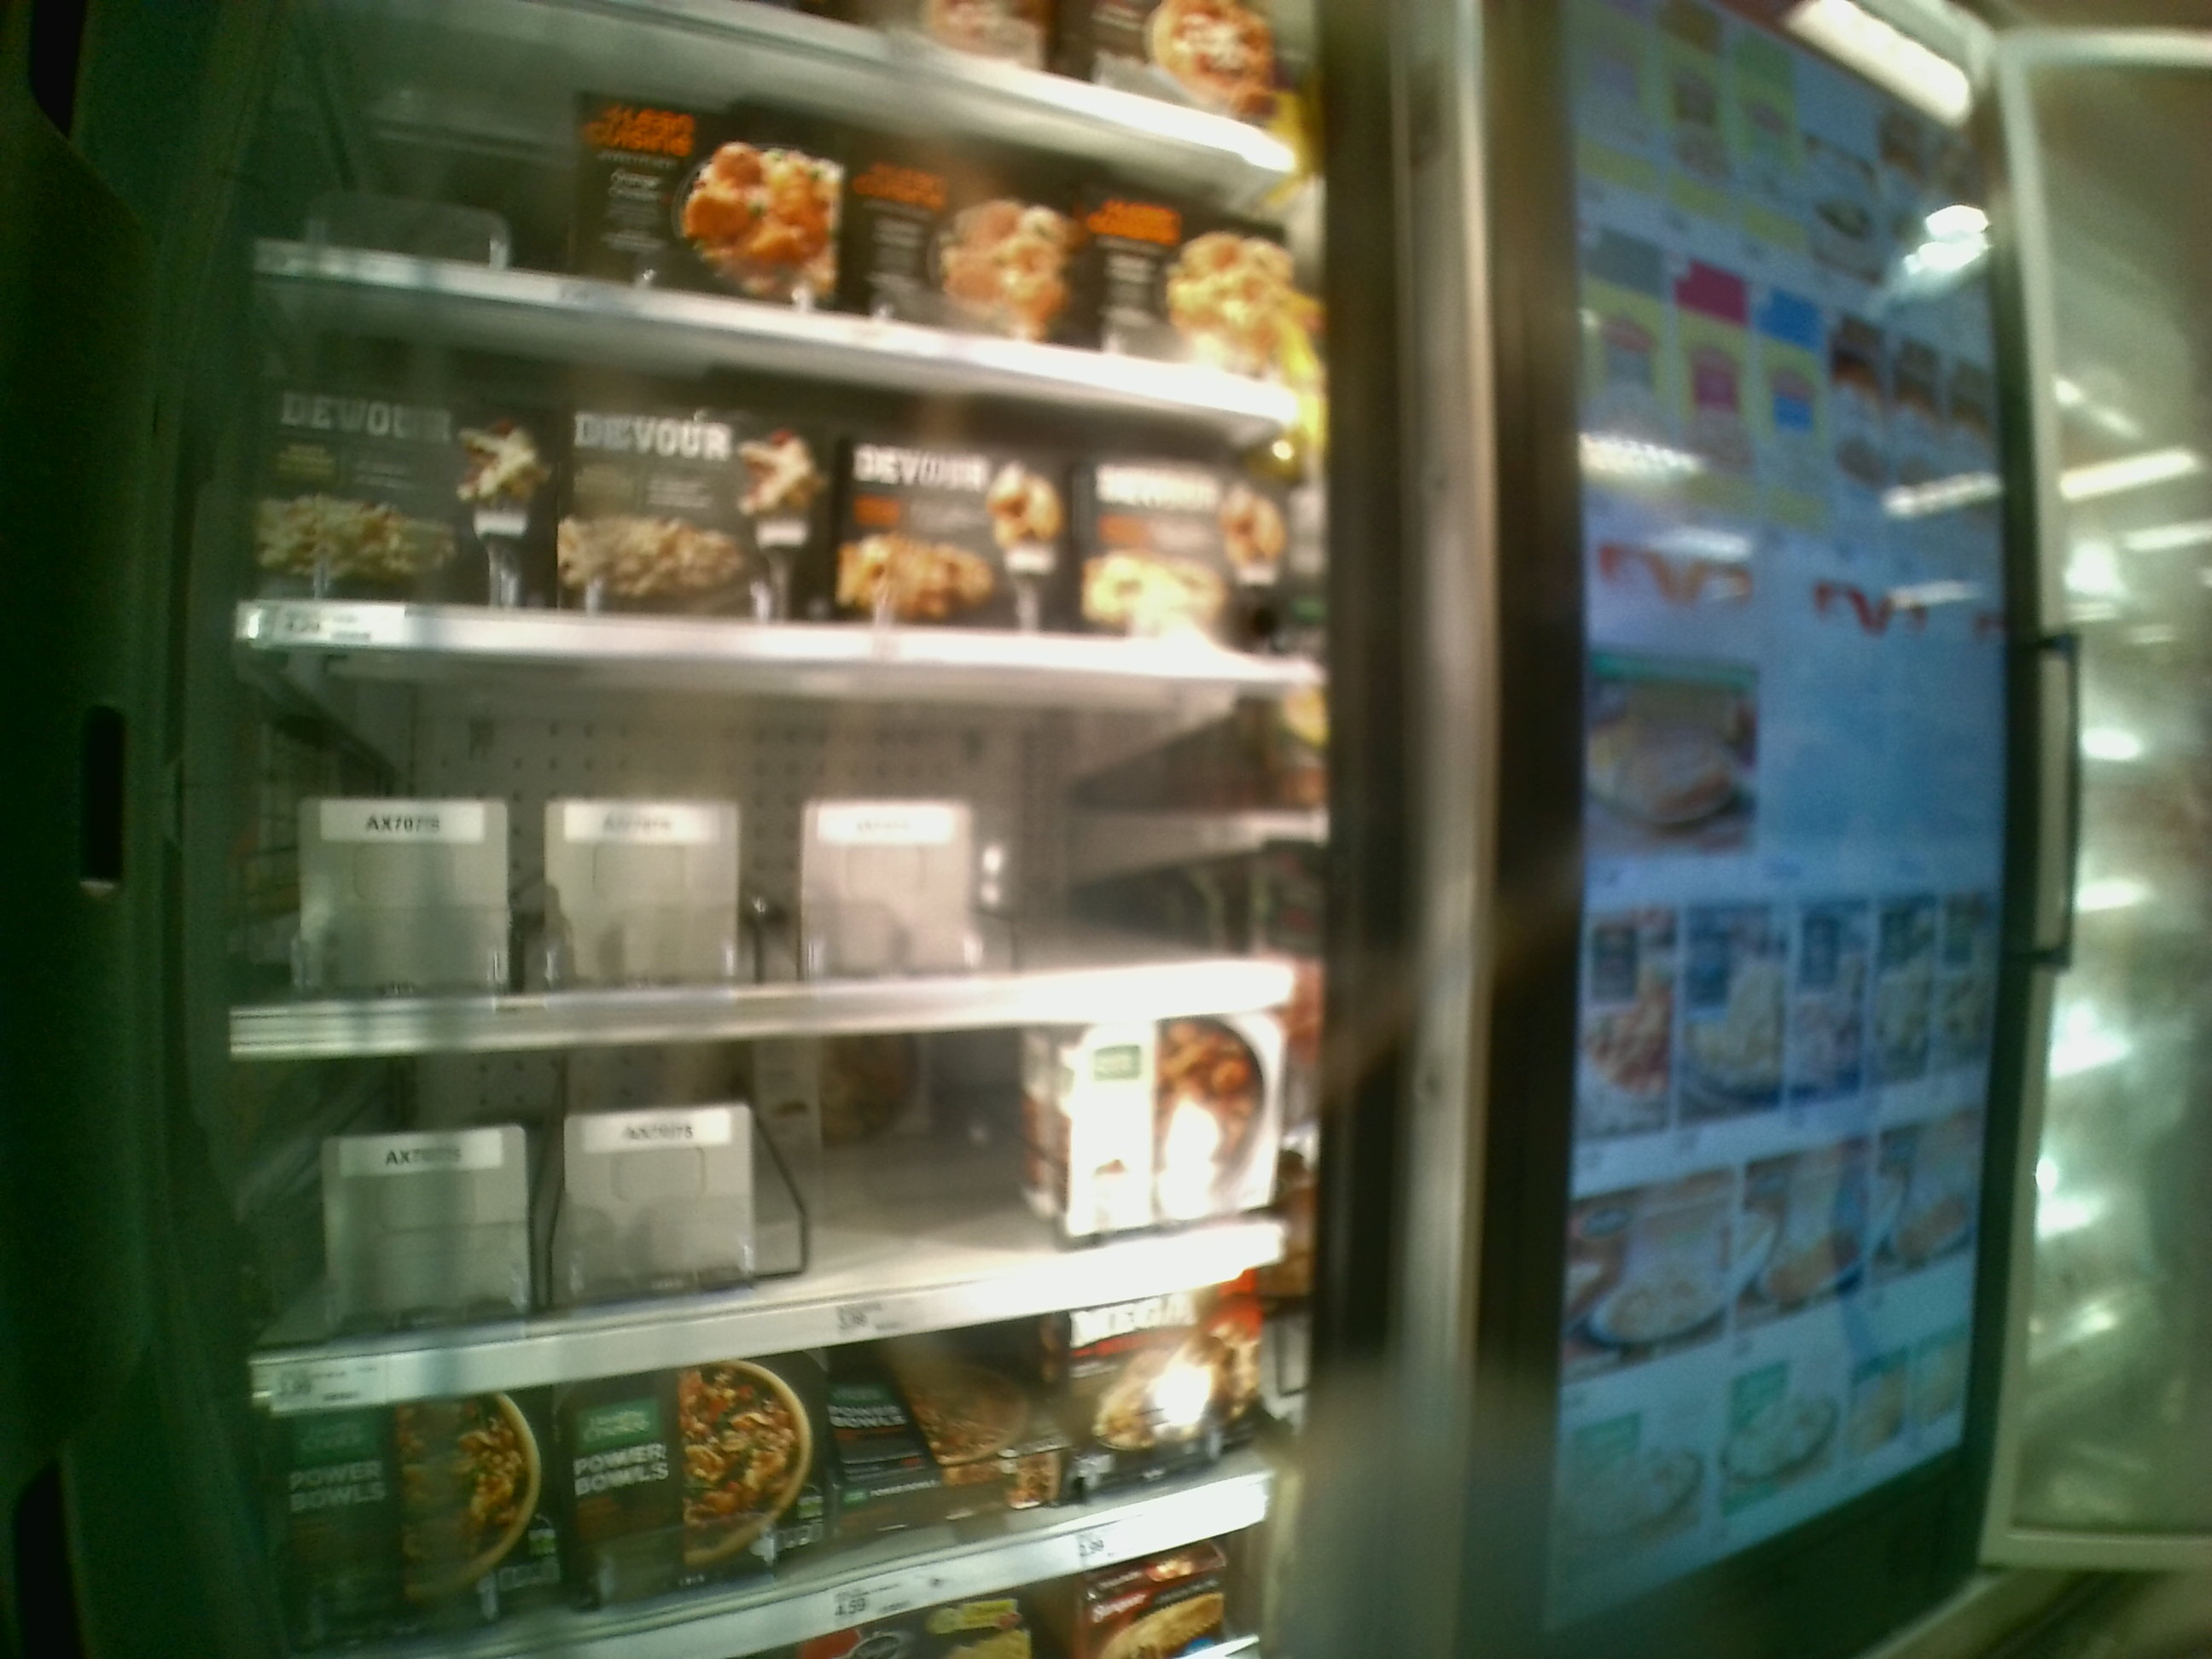Shelf: (228, 643, 1325, 1060)
